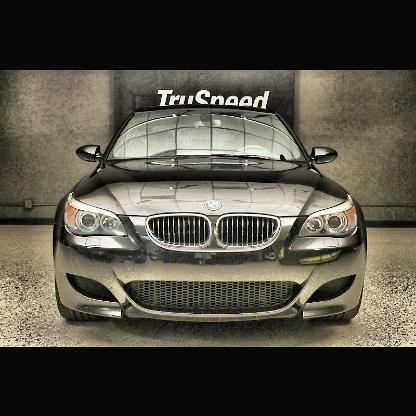BMW M5 Sedan 2010: (55, 105, 370, 329)
